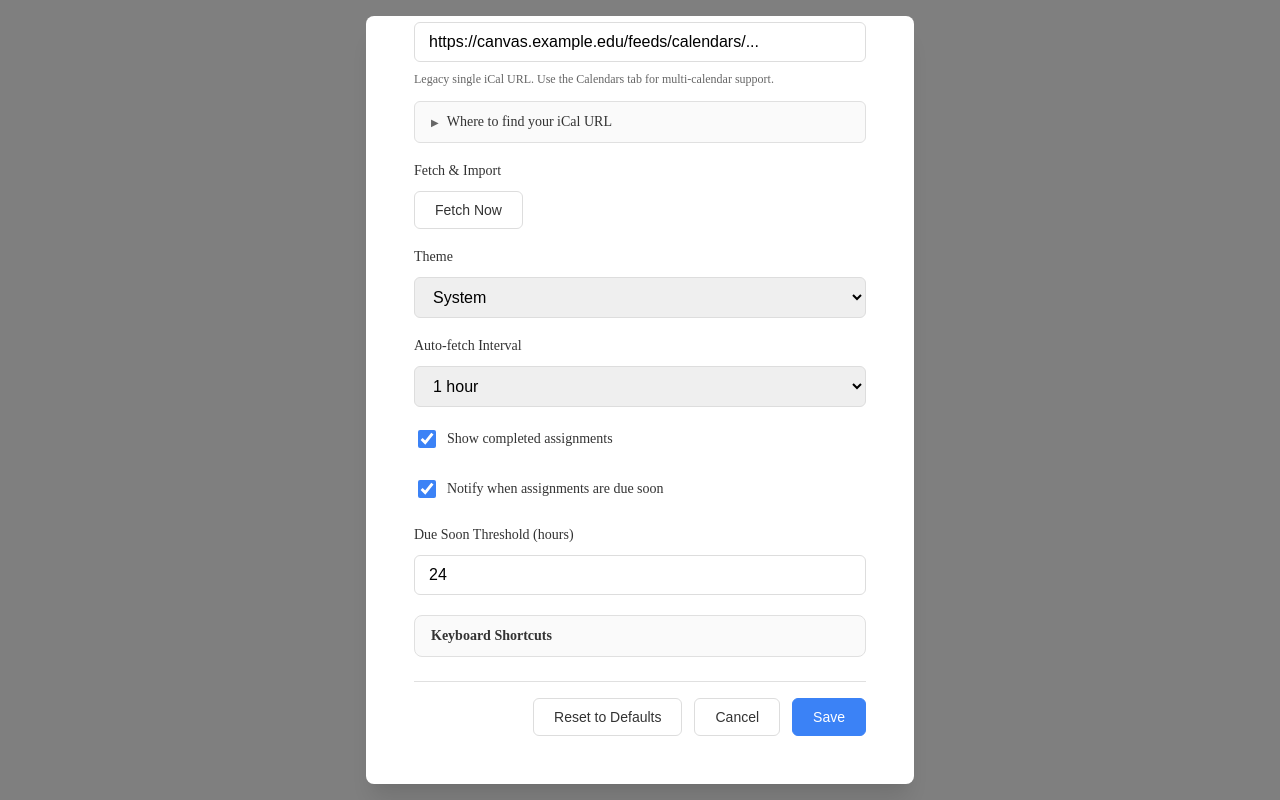
Test: SettingsModal › Reset Button › shows error on reset failure
The image size is (1280, 800).
(page scrolled)
Expected: the dialog is shown, x1=366 y1=16 x2=914 y2=784
Expected: the dropdown labelled "Theme" shows "System", x1=414 y1=277 x2=866 y2=318
Click the button "Reset to Defaults" at (608, 717), box x1=533 y1=698 x2=682 y2=736
(page scrolled)
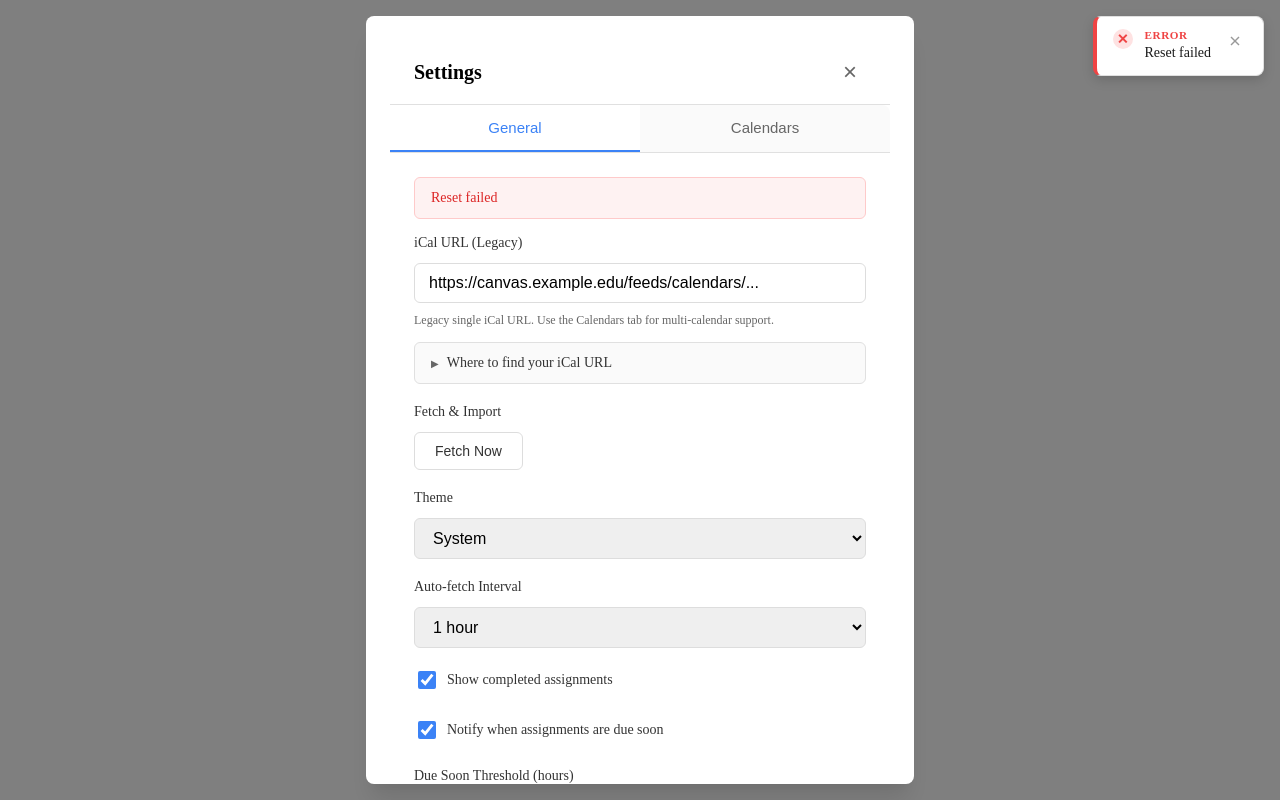
Result: the text "Reset failed" is shown at x1=414 y1=177 x2=866 y2=219
